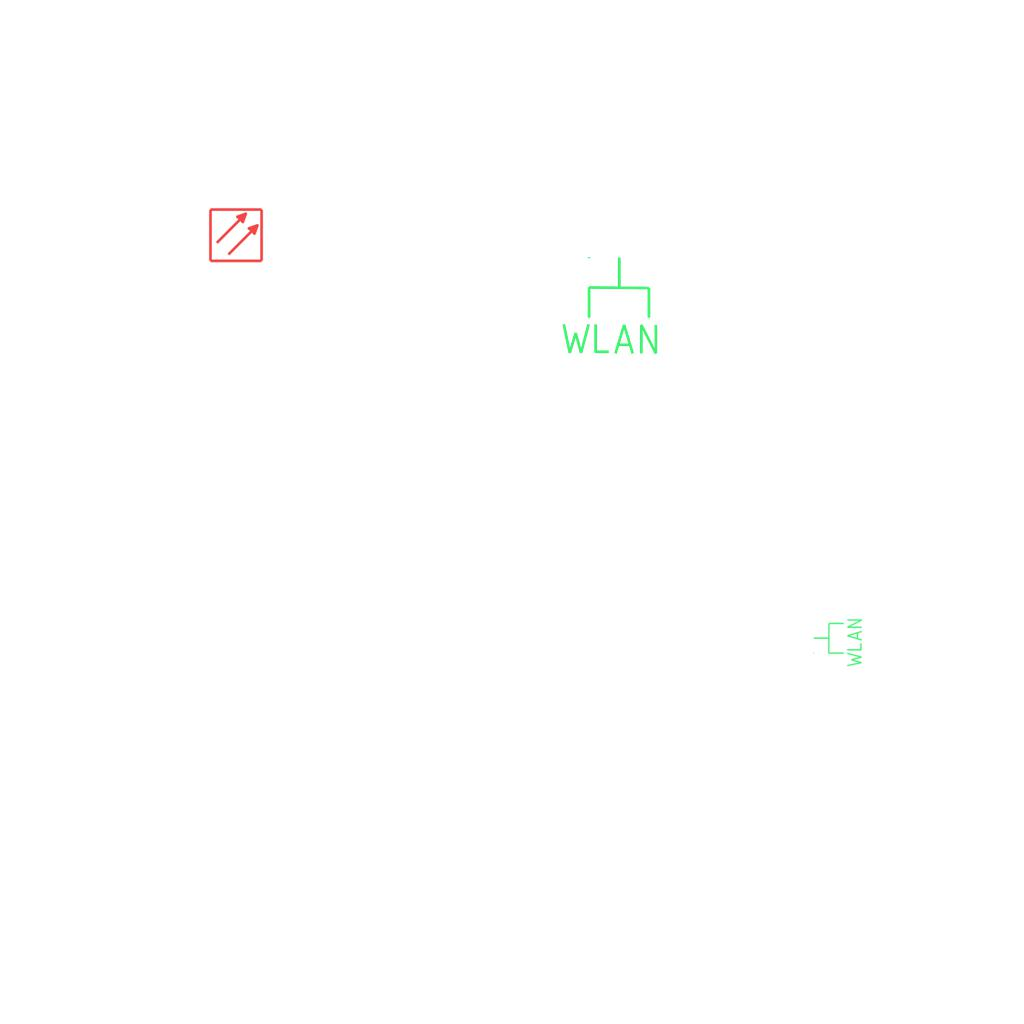RMO_Rauchmelder_optischer: (208, 207, 264, 263)
WLAN: (557, 254, 662, 358), (812, 617, 864, 669)
